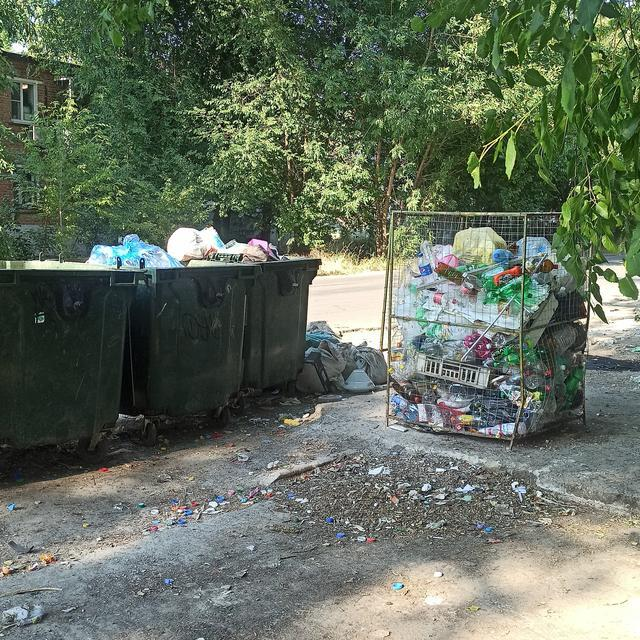Trash_Can_Empty: (0, 256, 147, 446)
Trash_Can_Full: (128, 233, 257, 417), (218, 235, 323, 397)
